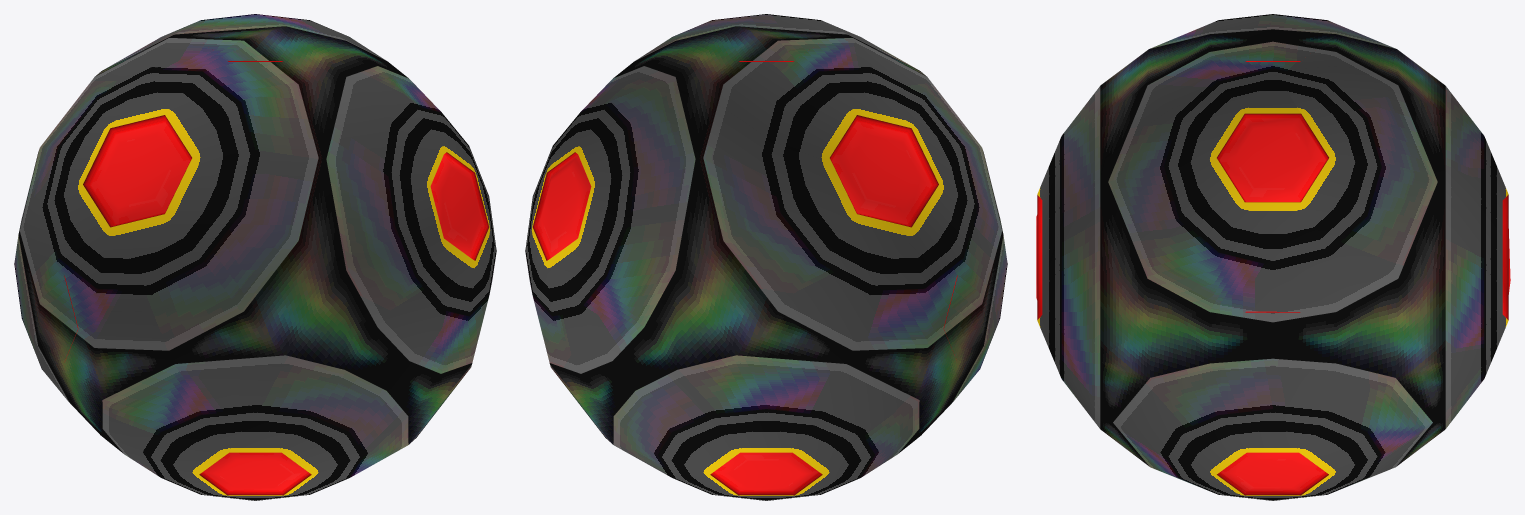
The model's file is ps2_save-icons_eyetoykinectic.glb.
3 views of the same model, side by side, from view 1: azimuth 30°, elevation 25°; view 2: azimuth 150°, elevation 25°; view 3: azimuth 270°, elevation 25° (orthographic).
Parts seen in each view (by area): view 1: static.ico; view 2: static.ico; view 3: static.ico.
Part boxes in pixels (bbox=[...]): static.ico: bbox=[14, 14, 496, 500]; static.ico: bbox=[525, 14, 1007, 500]; static.ico: bbox=[1036, 14, 1510, 500].
Bounding box in the file's own units: 2.36 × 2.37 × 2.34.
1 material, 1 textured.
